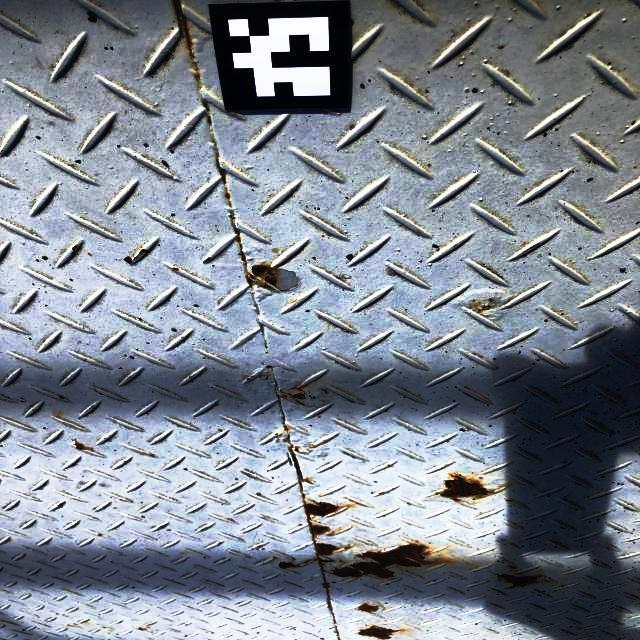Corrosion: (332, 542, 444, 580), (277, 542, 349, 569), (435, 473, 497, 503), (176, 0, 193, 50), (495, 572, 542, 589), (247, 264, 278, 289), (304, 500, 342, 520), (358, 625, 404, 640), (282, 386, 307, 407), (308, 520, 330, 539), (472, 301, 494, 312), (358, 603, 380, 614), (73, 441, 88, 451), (289, 444, 298, 453), (71, 245, 77, 256), (224, 193, 232, 201), (139, 249, 149, 255), (284, 425, 289, 433), (508, 565, 517, 569), (323, 583, 329, 589), (328, 531, 334, 536), (173, 267, 179, 271), (274, 432, 279, 436), (138, 628, 144, 631)
